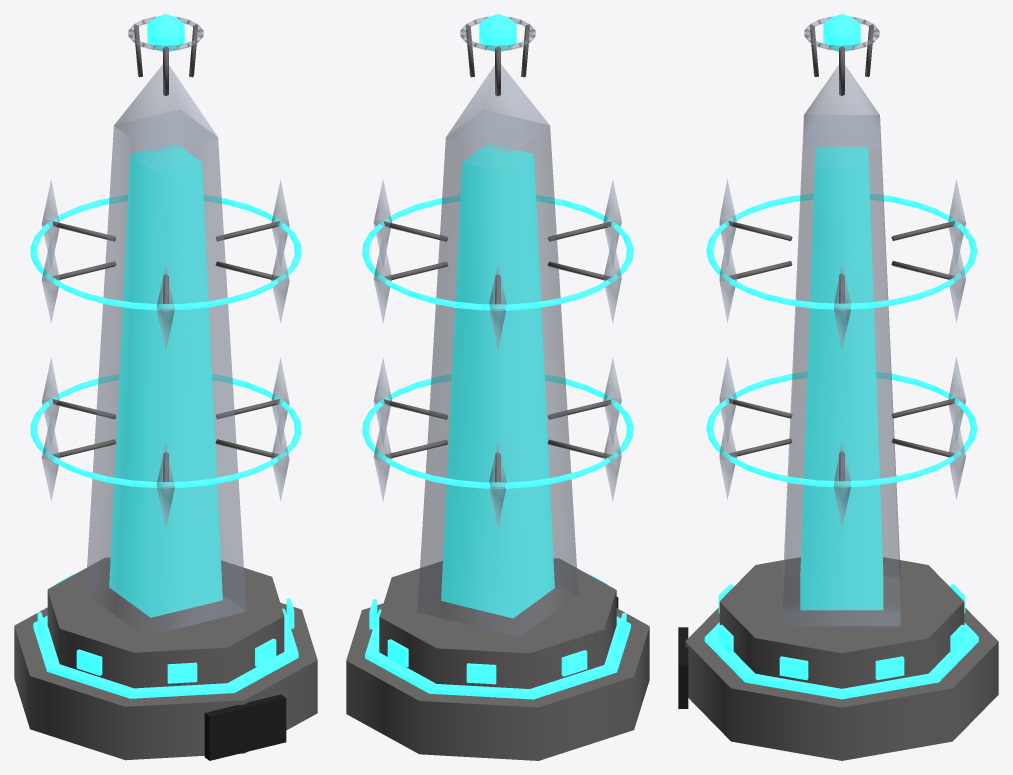
Rendered from Laser_Obelisk.glb.
3 views of the same model, side by side, from view 1: azimuth 30°, elevation 25°; view 2: azimuth 150°, elevation 25°; view 3: azimuth 270°, elevation 25° (orthographic).
Parts seen in each view (by area): view 1: Laser_Obelisk; view 2: Laser_Obelisk; view 3: Laser_Obelisk.
Boxes of the visible parts, left/top/right/bottom form: Laser_Obelisk: left=14, top=14, right=317, bottom=760; Laser_Obelisk: left=346, top=14, right=649, bottom=760; Laser_Obelisk: left=678, top=14, right=998, bottom=760.
Bounding box in the file's own units: 3.2 × 7.67 × 3.27.
